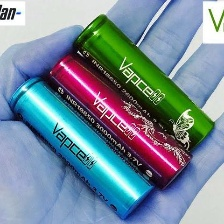battery: (8, 72, 157, 222), (45, 48, 197, 193), (71, 12, 217, 155)
